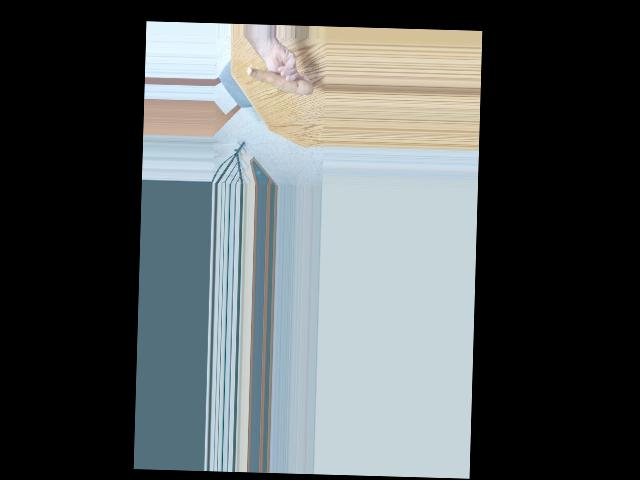sweet_potato: (245, 66, 312, 97)
